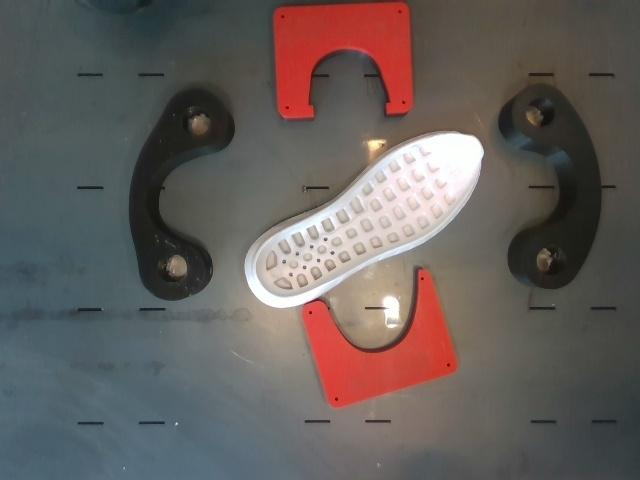shoes: (256, 134, 482, 298)
